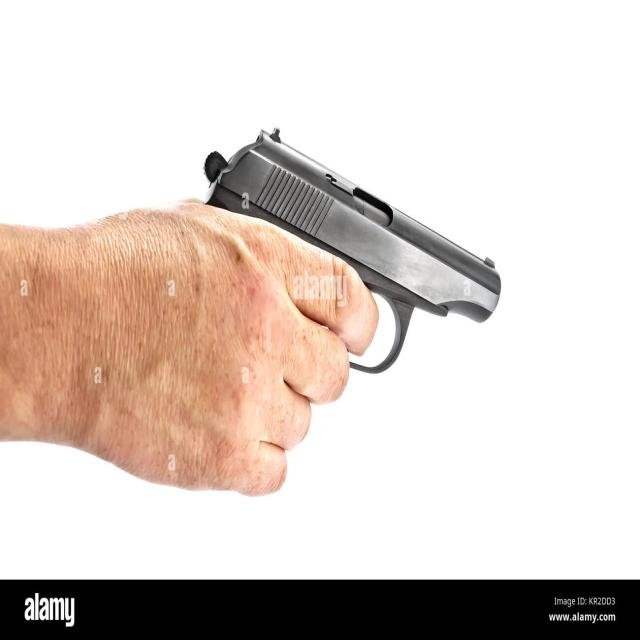HandGun: (203, 130, 503, 374)
